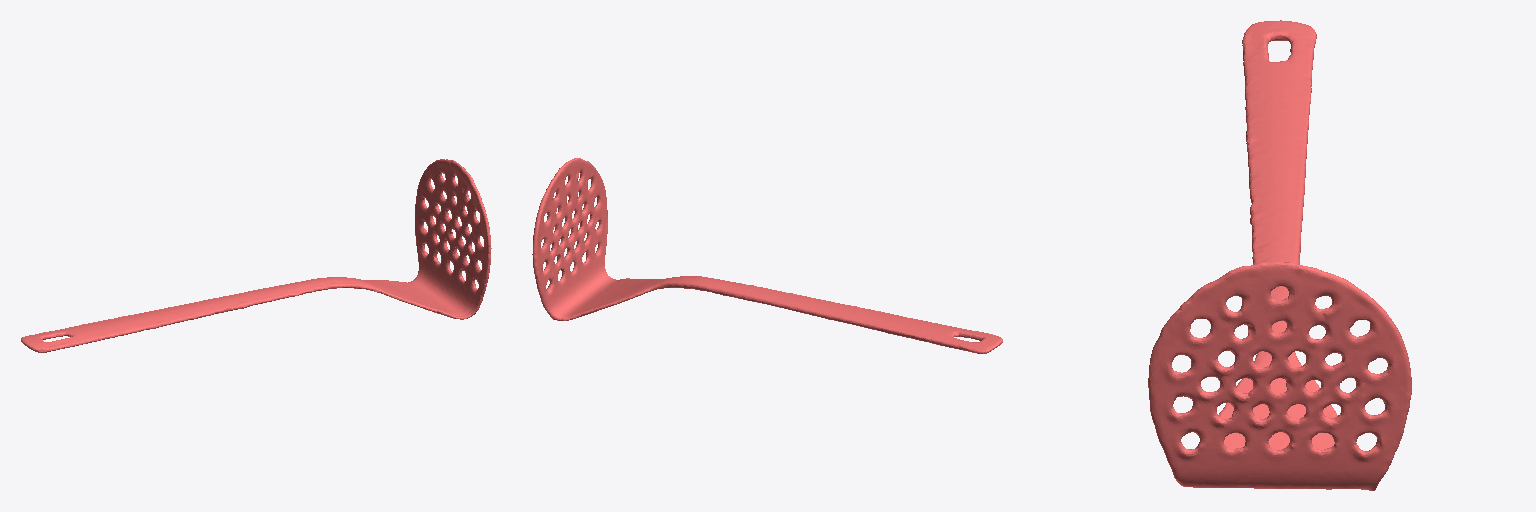
robot.urdf — model.urdf:
<robot name="model.urdf">
    <link name="baseLink">
        <contact>
            <lateral_friction value="0.4"/>
            <rolling_friction value="0.001"/>
            <spinning_friction value="0.001"/>
            <contact_cfm value="0.0"/>
            <contact_erp value="1.0"/>
        </contact>
        <inertial>
            <origin rpy="0 0 0" xyz="-0.1 0 0."/>
            <mass value="1.5"/>
            <inertia ixx="1e-3" ixy="0" ixz="0" iyy="1e-3" iyz="0" izz="1e-3"/>
        </inertial>
        <visual>
            <geometry>
                <mesh filename="nontextured.stl" scale="1 1 1"/>
            </geometry>
            <material name="black">
                <color rgba="1.0 0.5 0.5 1"/>
            </material>
        </visual>
        <collision>
            <geometry>
                <mesh filename="nontextured.stl" scale="1 1 1"/>
            </geometry>
        </collision>
    </link>
</robot>

--- Facts derived from the render (not from the file) ---
The picture shows the robot from 3 angles, left to right: view 1: azimuth 30°, elevation 25°; view 2: azimuth 150°, elevation 25°; view 3: azimuth 270°, elevation 25°; orthographic projection.
Robot: model.urdf — 1 links, 0 joints (none); root link baseLink; default pose: every joint at zero.
Visible links, largest first — view 1: baseLink; view 2: baseLink; view 3: baseLink.
Boxes of the visible links, x1,y1,x2,y2 form: baseLink: (21, 159, 491, 352); baseLink: (532, 158, 1002, 353); baseLink: (1148, 20, 1411, 490).
Bounding box of the posed robot: 0.2866 × 0.084 × 0.0852 m (x, y, z).
1 mesh visuals loaded from 1 distinct referenced files (1 binary STL).